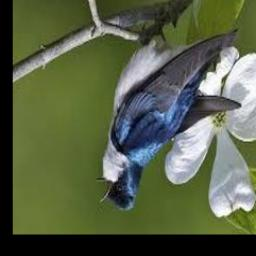Swallow: (96, 24, 241, 211)
